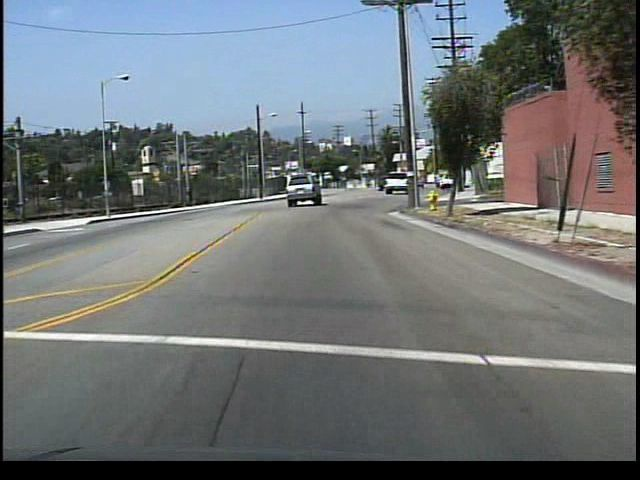person: (182, 183, 198, 210)
